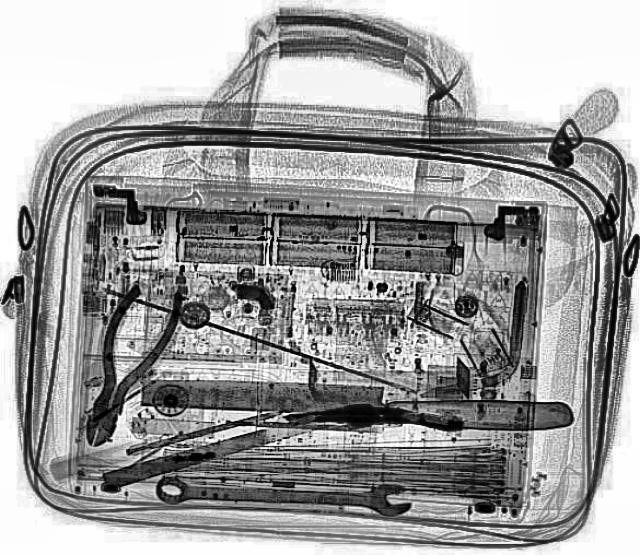Gun: (284, 388, 463, 452)
Knife: (138, 370, 574, 436)
Pliers: (56, 278, 188, 455)
Wrench: (153, 473, 411, 516)
